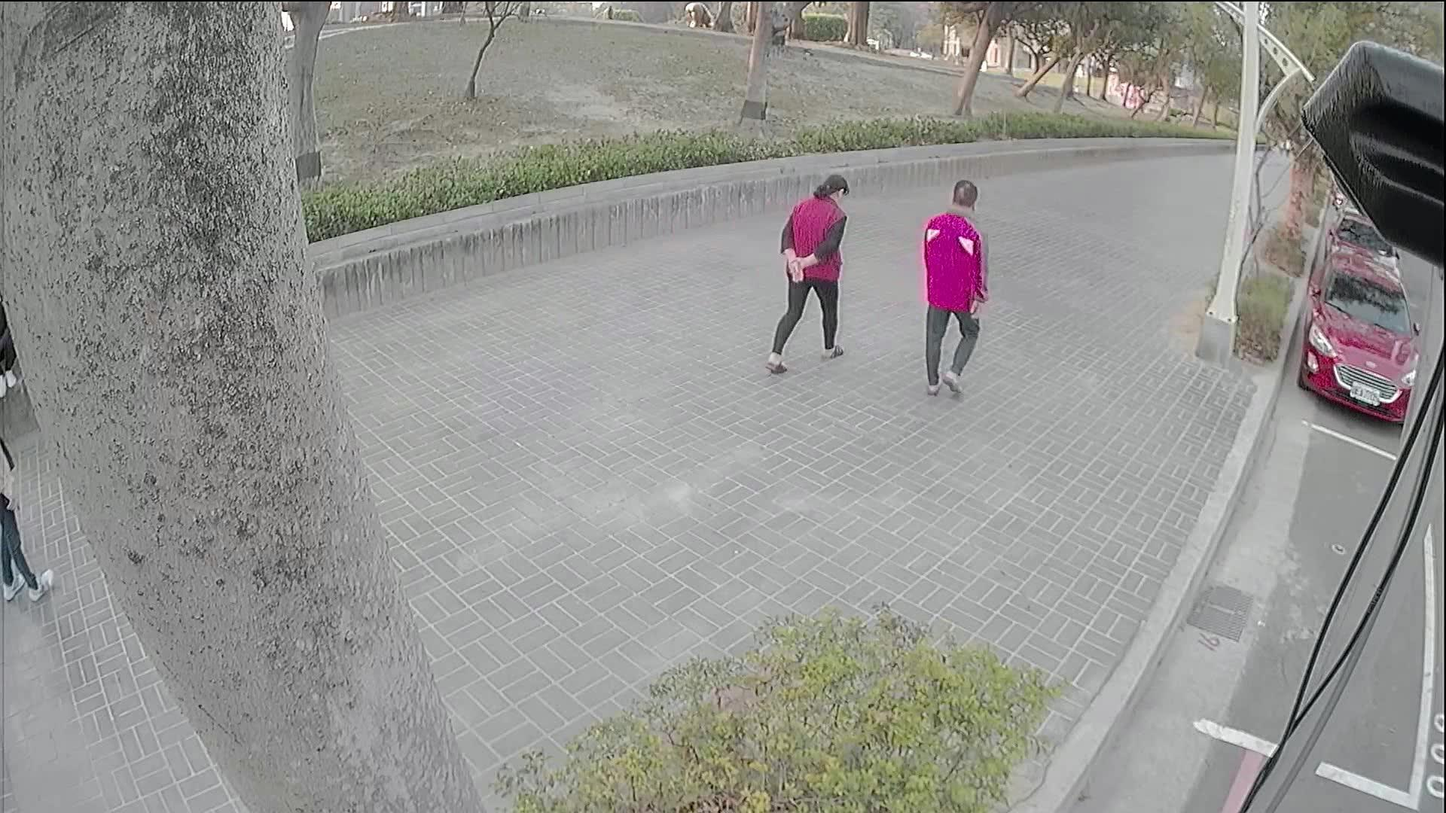person: (910, 181, 990, 404), (773, 174, 850, 367), (0, 440, 54, 605)
